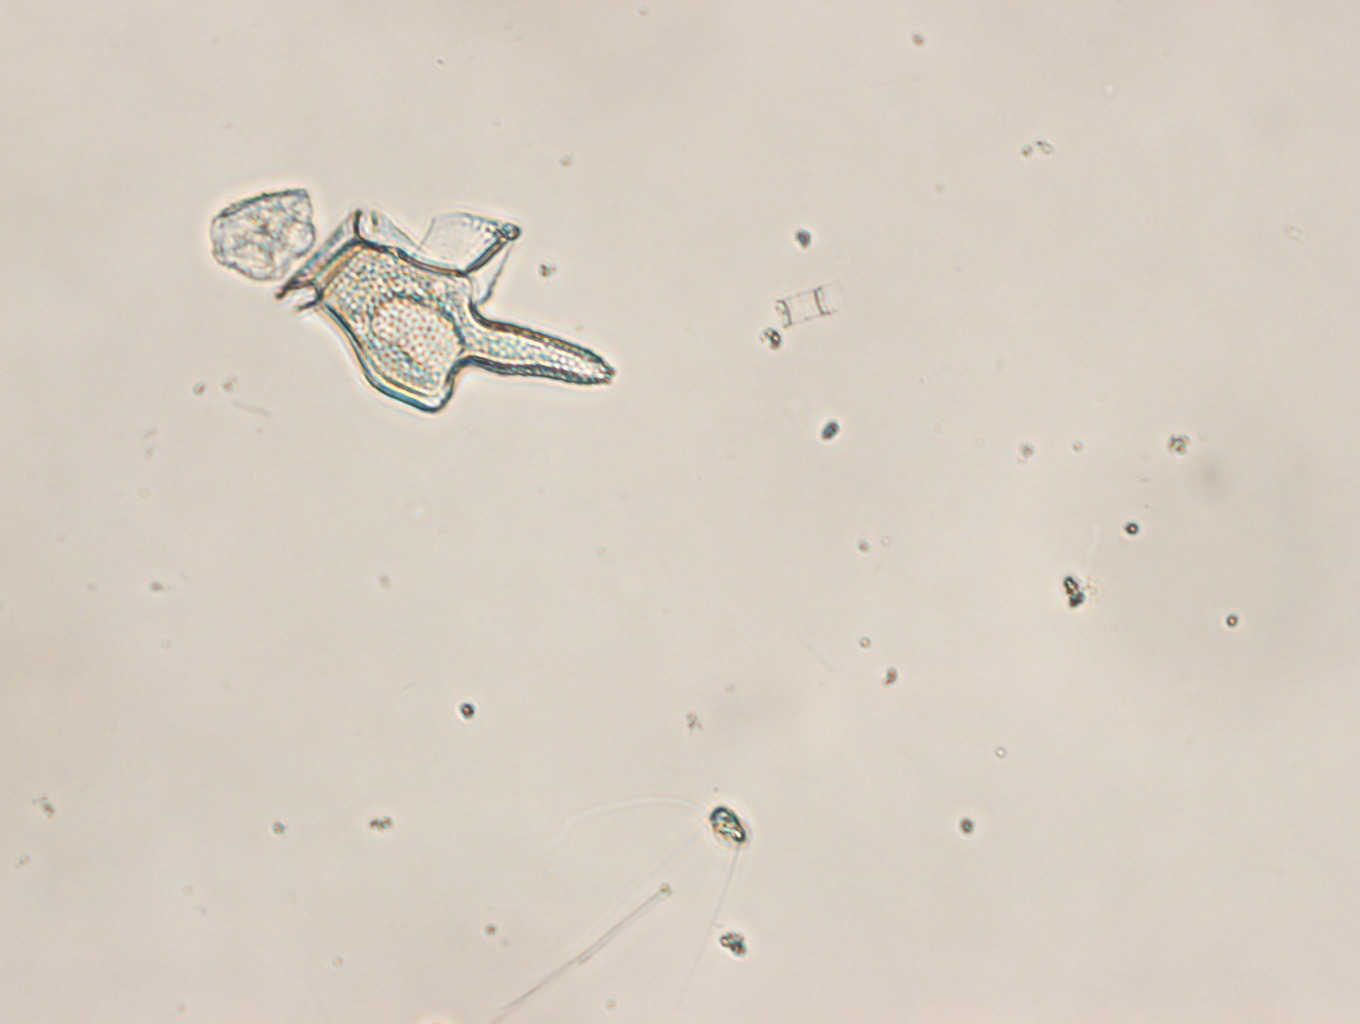dinophysis caudata: (283, 210, 616, 415)
